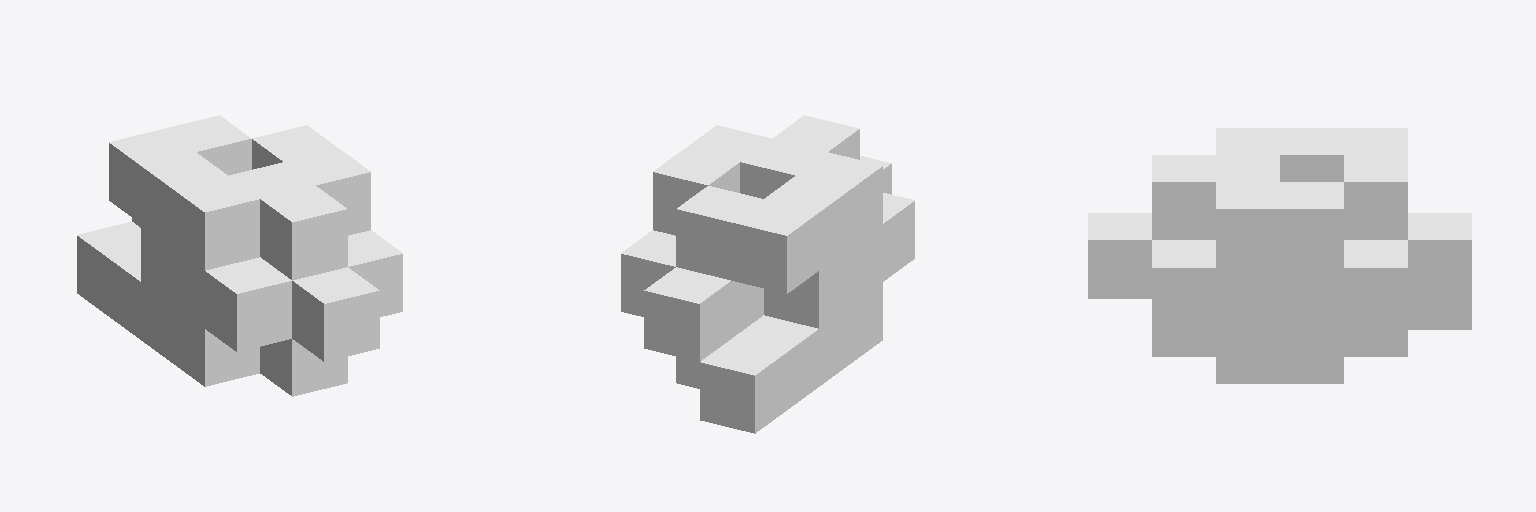
The model's file is Bullet_2.obj.
The picture shows the model from 3 angles: view 1: azimuth 30°, elevation 25°; view 2: azimuth 150°, elevation 25°; view 3: azimuth 270°, elevation 25°; orthographic projection.
Visible parts, largest first — view 1: object 1; view 2: object 1; view 3: object 1.
Boxes of the visible parts, <box> form: object 1: <box>77,115,402,396</box>; object 1: <box>621,115,914,433</box>; object 1: <box>1088,128,1471,383</box>.
Bounding box in the file's own units: 0.3 × 0.3 × 0.6.